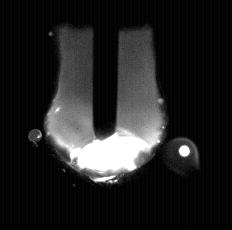arame: (93, 0, 118, 141)
poca: (44, 0, 167, 230)
